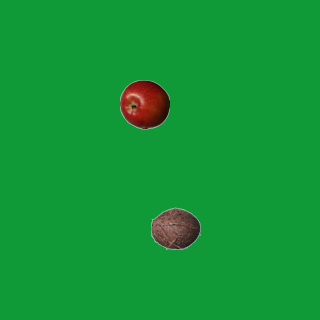Apple Braeburn: (119, 79, 169, 129)
Cocos: (150, 203, 200, 253)
